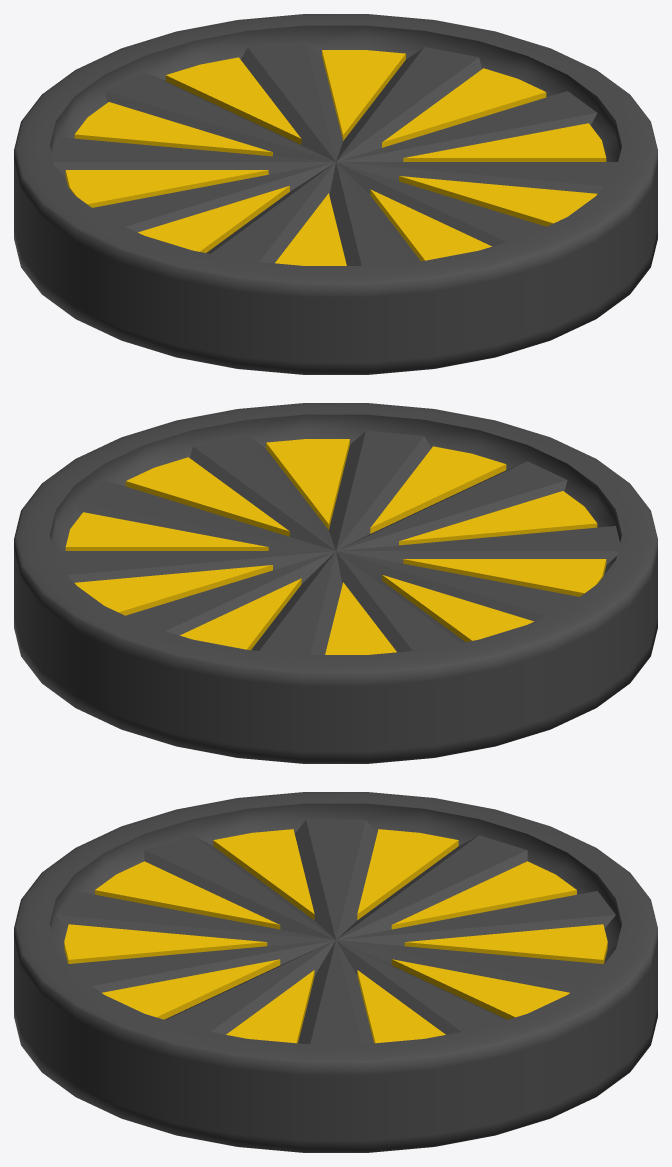
The model's file is Coin.fbx.
The picture shows the model from 3 angles, top to bottom: view 1: azimuth 30°, elevation 25°; view 2: azimuth 150°, elevation 25°; view 3: azimuth 270°, elevation 25°; orthographic projection.
Visible parts, largest first — view 1: Cylinder; view 2: Cylinder; view 3: Cylinder.
Part boxes in pixels (<box>): Cylinder: <box>14,14,657,374</box>; Cylinder: <box>14,403,657,763</box>; Cylinder: <box>14,792,657,1152</box>.
Bounding box in the file's own units: 224 × 37.5 × 225.
